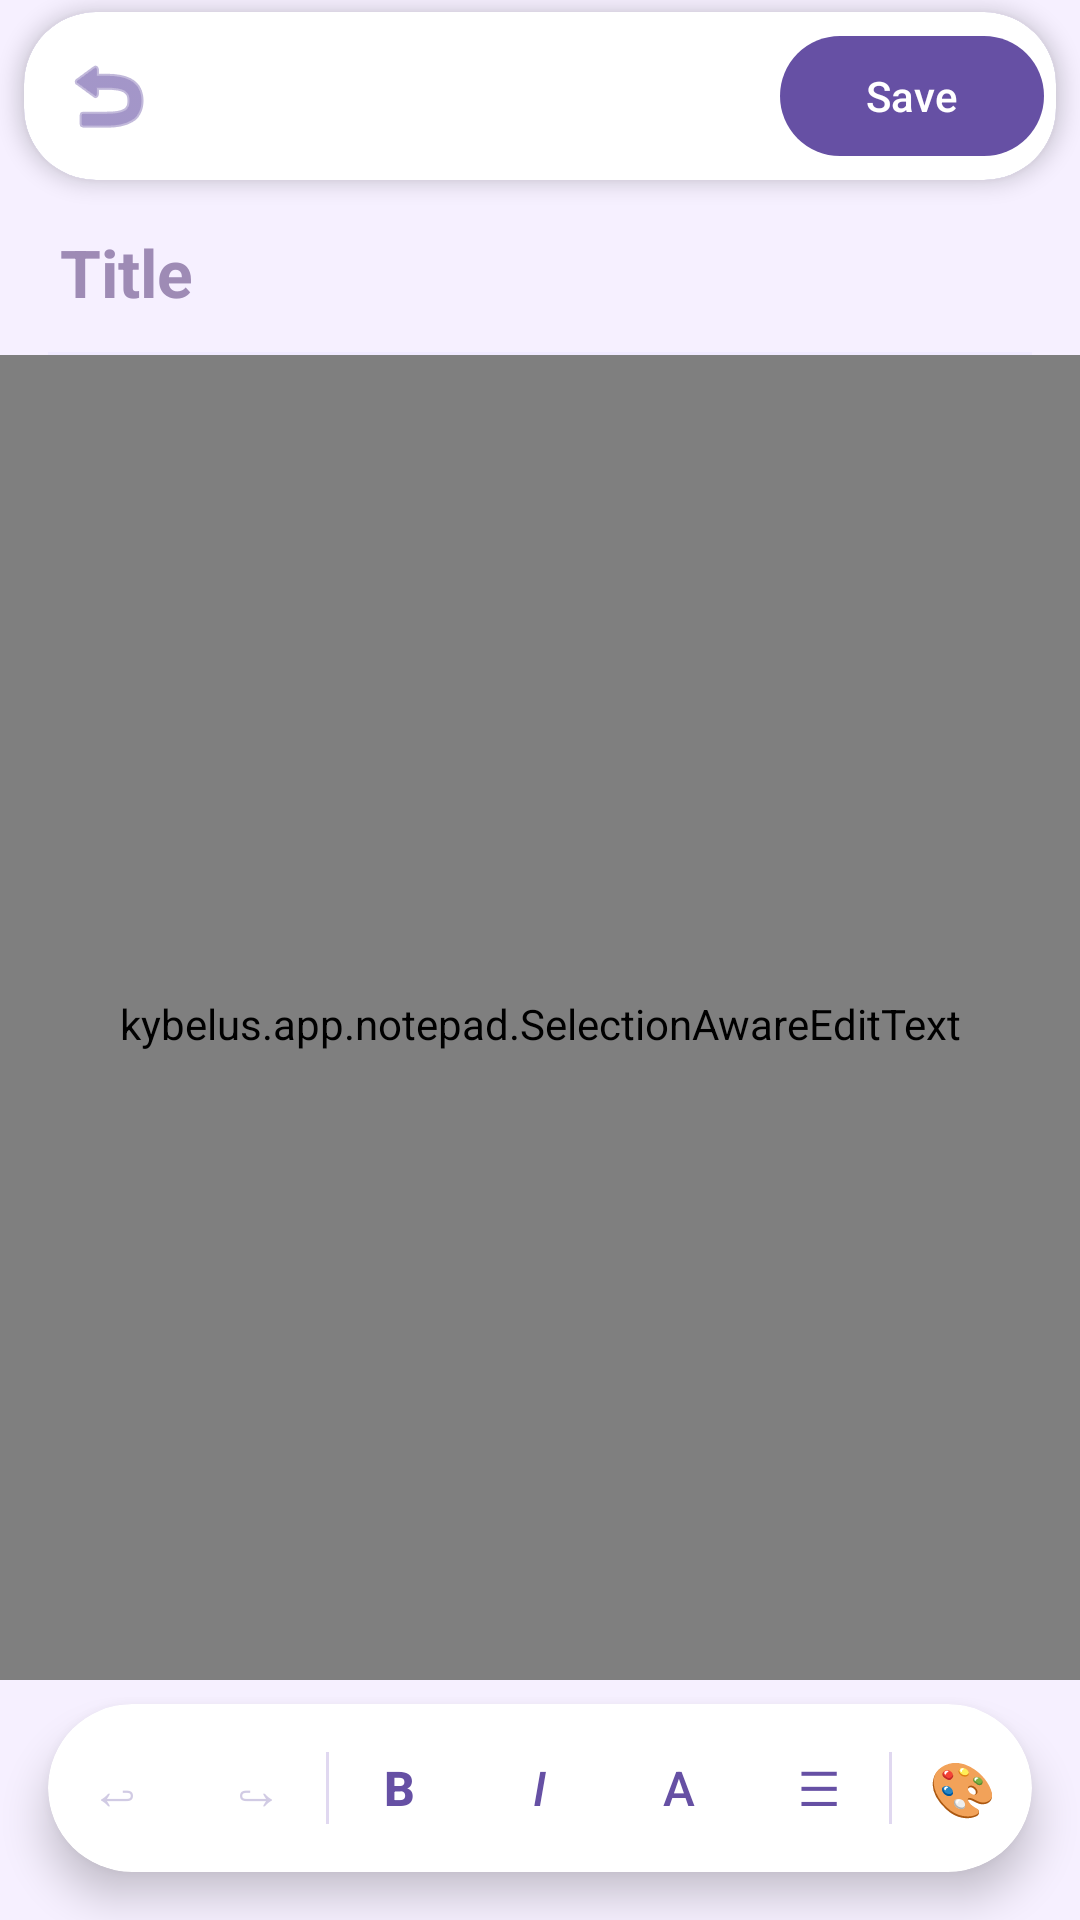

Point at icon controls on the screen. Image size 1080w x 1920h, points as (x=x, y=y).
revert: (x=109, y=96)
